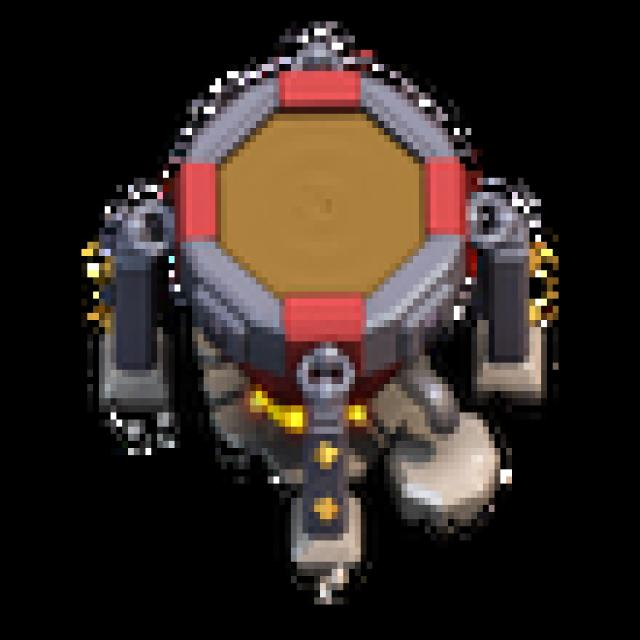dark_spell_factory: (84, 13, 580, 588)
